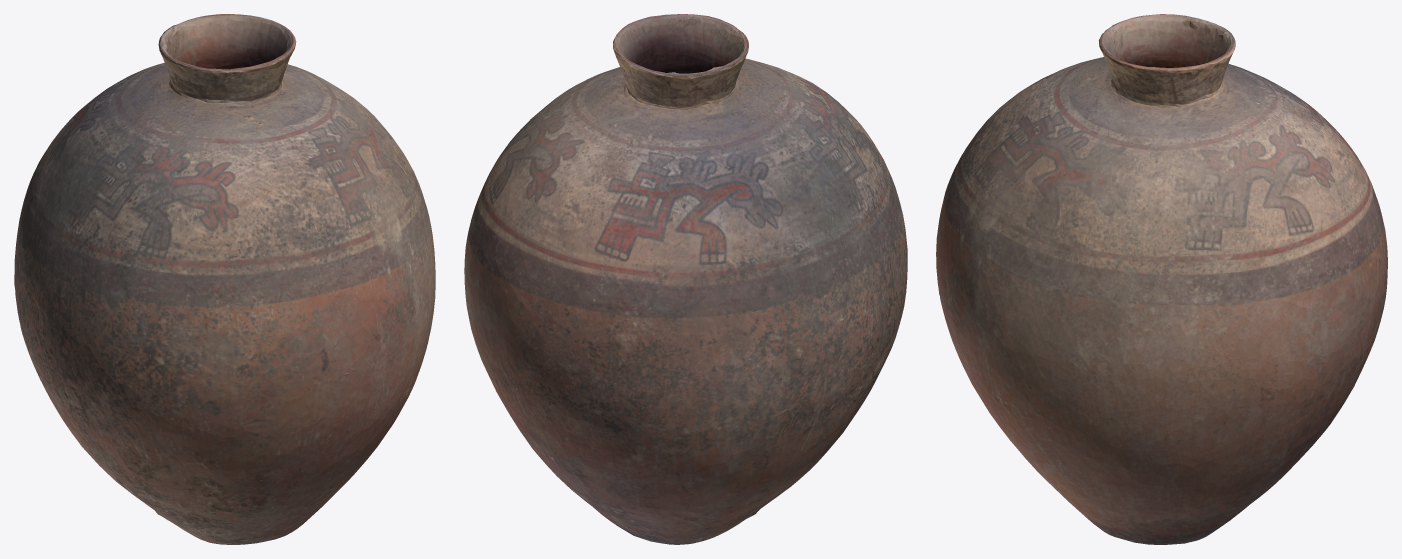
File: vasija-cerrodeoro-optimizada.glb
3 views of the same model, side by side, from view 1: azimuth 30°, elevation 25°; view 2: azimuth 150°, elevation 25°; view 3: azimuth 270°, elevation 25° (orthographic).
Visible parts, largest first — view 1: vasija-cabeza; view 2: vasija-cabeza; view 3: vasija-cabeza.
Boxes of the visible parts, x1,y1,x2,y2 form: vasija-cabeza: [14, 14, 435, 544]; vasija-cabeza: [464, 14, 907, 544]; vasija-cabeza: [936, 14, 1387, 544].
Size of the model in its own units: 0.5664 by 0.7121 by 0.6048.
Materials: 1 (1 with a texture image).
